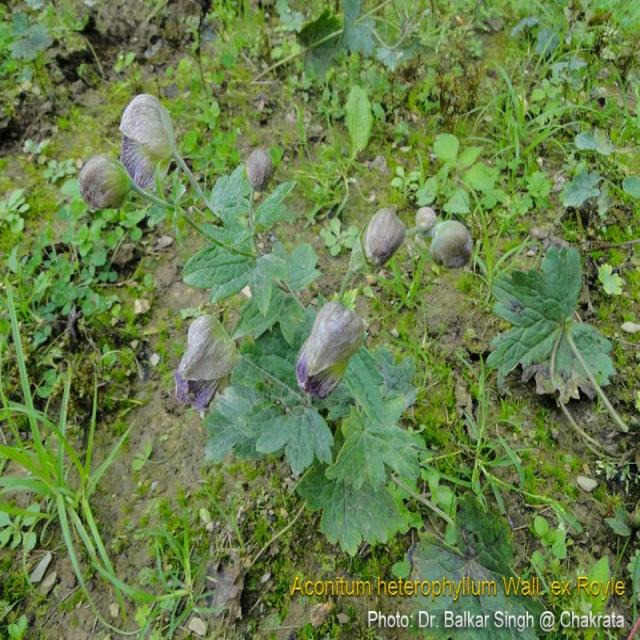Meetha: (211, 316, 609, 640), (167, 88, 428, 556), (334, 32, 616, 457), (44, 72, 260, 603)
